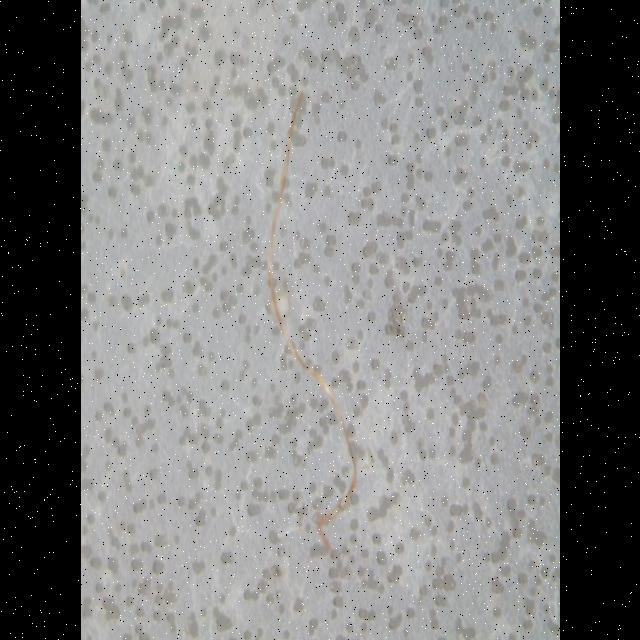Fibre: (265, 92, 357, 562)
